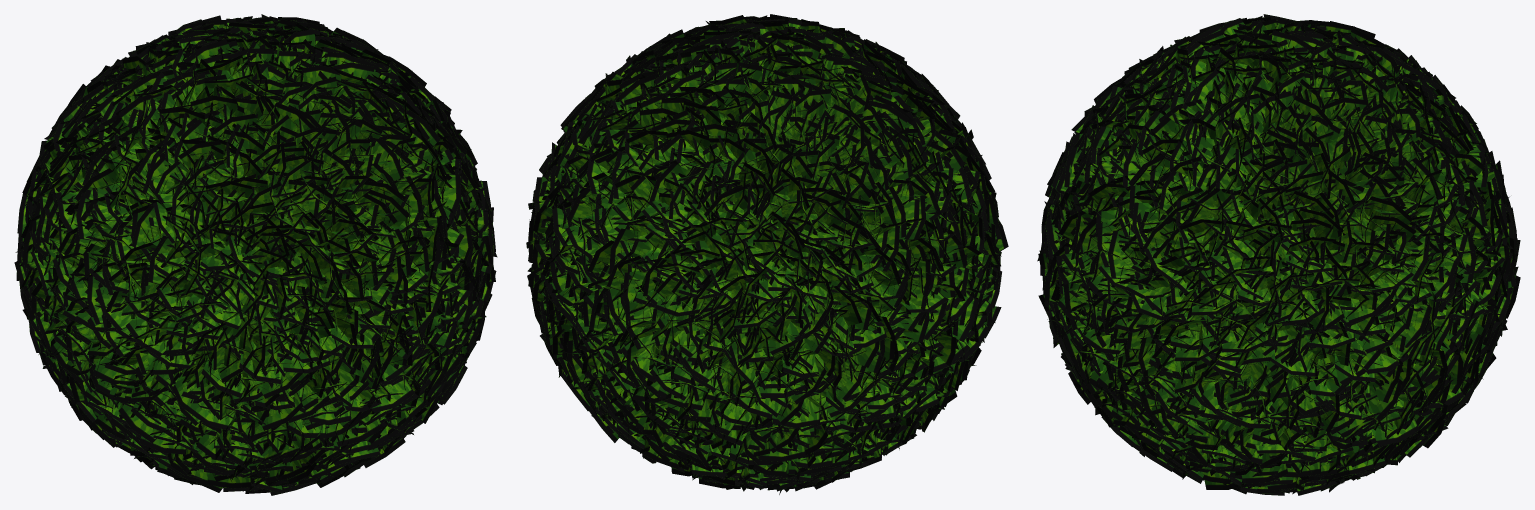
Rendered from planet_compressed.glb.
3 renders of one model, left to right at view 1: azimuth 30°, elevation 25°; view 2: azimuth 150°, elevation 25°; view 3: azimuth 270°, elevation 25°, orthographic.
Parts seen in each view (by area): view 1: planet; view 2: planet; view 3: planet.
Boxes of the visible parts, x1,y1,x2,y2 form: planet: (14, 14, 497, 495); planet: (526, 14, 1008, 494); planet: (1037, 14, 1520, 495).
Bounding box in the file's own units: 2.46 × 2.47 × 2.46.
Materials: 2 (2 with a texture image).
